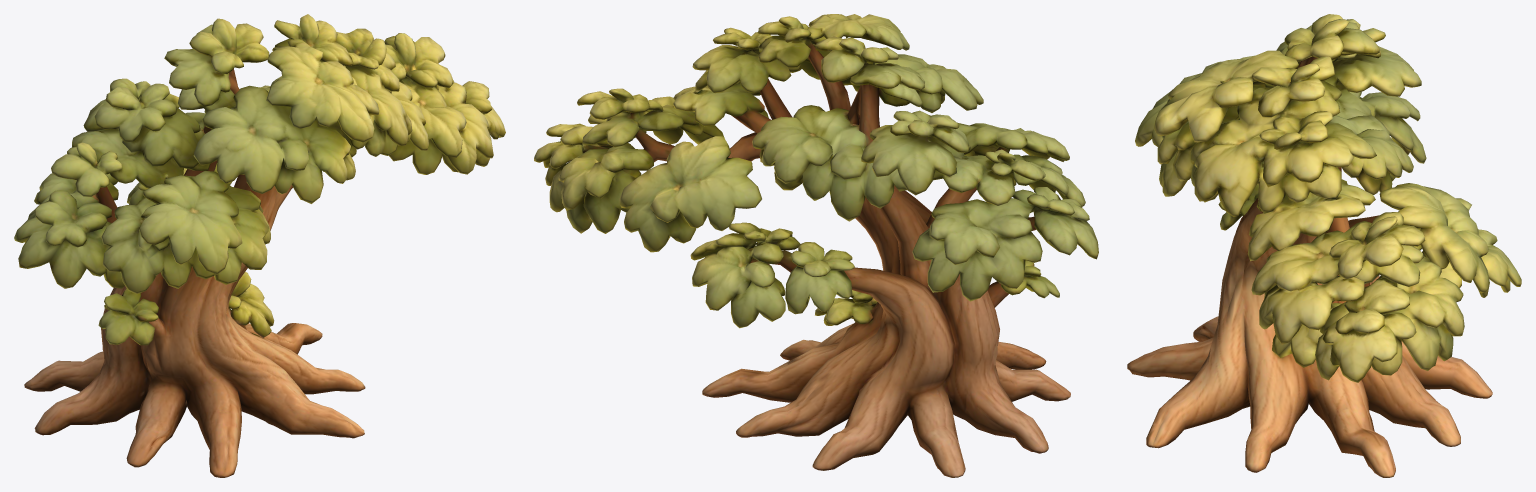
The model's file is forest-tree.glb.
The picture shows the model from 3 angles, left to right: view 1: azimuth 30°, elevation 25°; view 2: azimuth 150°, elevation 25°; view 3: azimuth 270°, elevation 25°; orthographic projection. The views are drawn at different scales.
Visible parts, largest first — view 1: tripo_node_992116ca-5a79-46ca-8123-ea1a5d7ec49a; view 2: tripo_node_992116ca-5a79-46ca-8123-ea1a5d7ec49a; view 3: tripo_node_992116ca-5a79-46ca-8123-ea1a5d7ec49a.
Part boxes in pixels (x1,y1,x2,y2): tripo_node_992116ca-5a79-46ca-8123-ea1a5d7ec49a: (14,14,505,477); tripo_node_992116ca-5a79-46ca-8123-ea1a5d7ec49a: (534,14,1098,477); tripo_node_992116ca-5a79-46ca-8123-ea1a5d7ec49a: (1127,14,1521,477).
Bounding box in the file's own units: 0.9784 × 0.6644 × 0.5954.
1 material, 1 textured.
